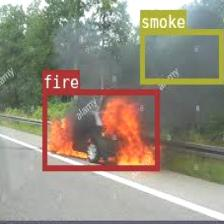fire: (42, 89, 159, 169)
smoke: (140, 28, 222, 83)
